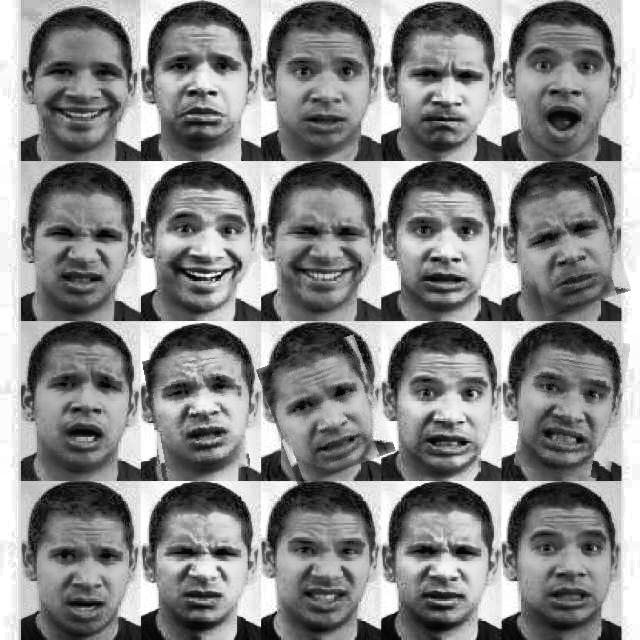sad: (265, 341, 387, 479), (518, 333, 625, 477), (519, 181, 624, 311), (147, 350, 246, 478)
